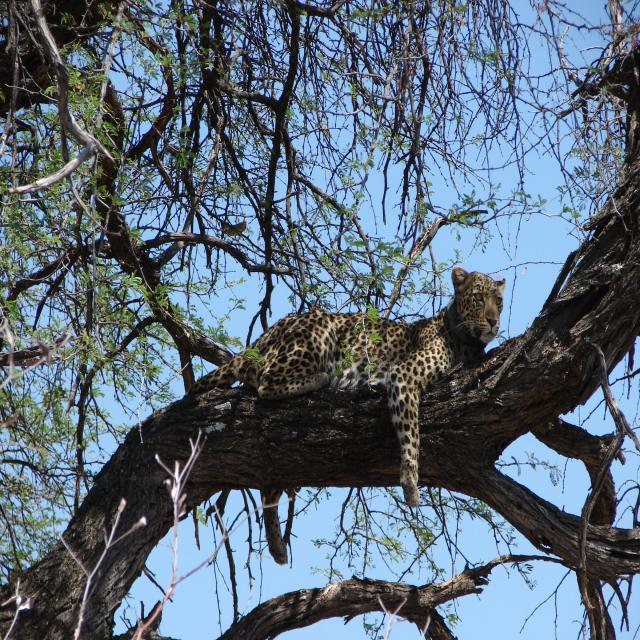Leopard: (195, 254, 512, 566)
